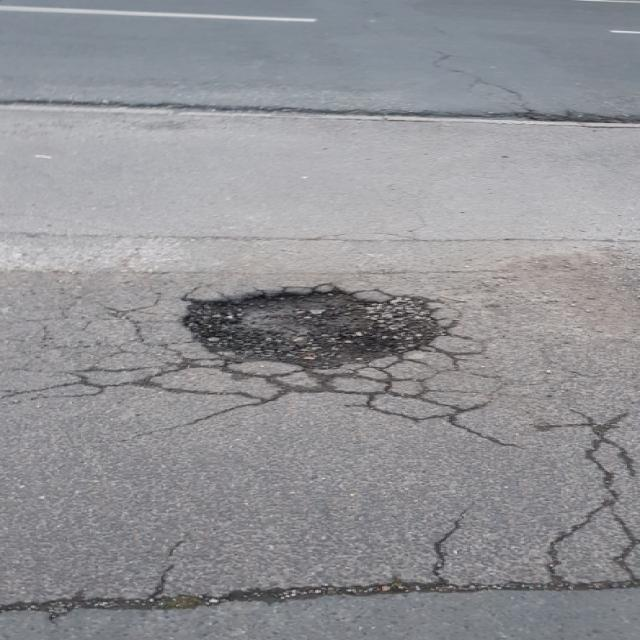Pothole: (172, 282, 455, 377)
